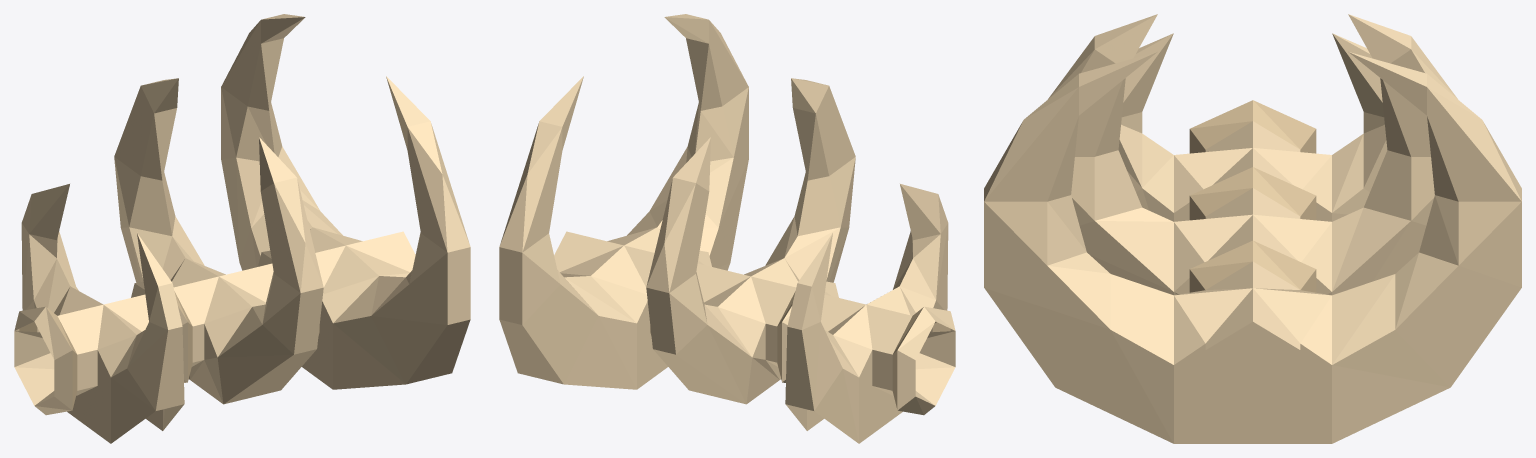
Rendered from carcass.obj.
3 renders of one model, left to right at view 1: azimuth 30°, elevation 25°; view 2: azimuth 150°, elevation 25°; view 3: azimuth 270°, elevation 25°, orthographic. The views are drawn at different scales.
Visible parts, largest first — view 1: carcass_back; view 2: carcass_back; view 3: carcass_back.
Boxes of the visible parts, x1,y1,x2,y2 form: carcass_back: (14,14,470,443); carcass_back: (499,14,955,443); carcass_back: (984,14,1521,443).
Bounding box in the file's own units: 2.56 × 2.04 × 2.72.
